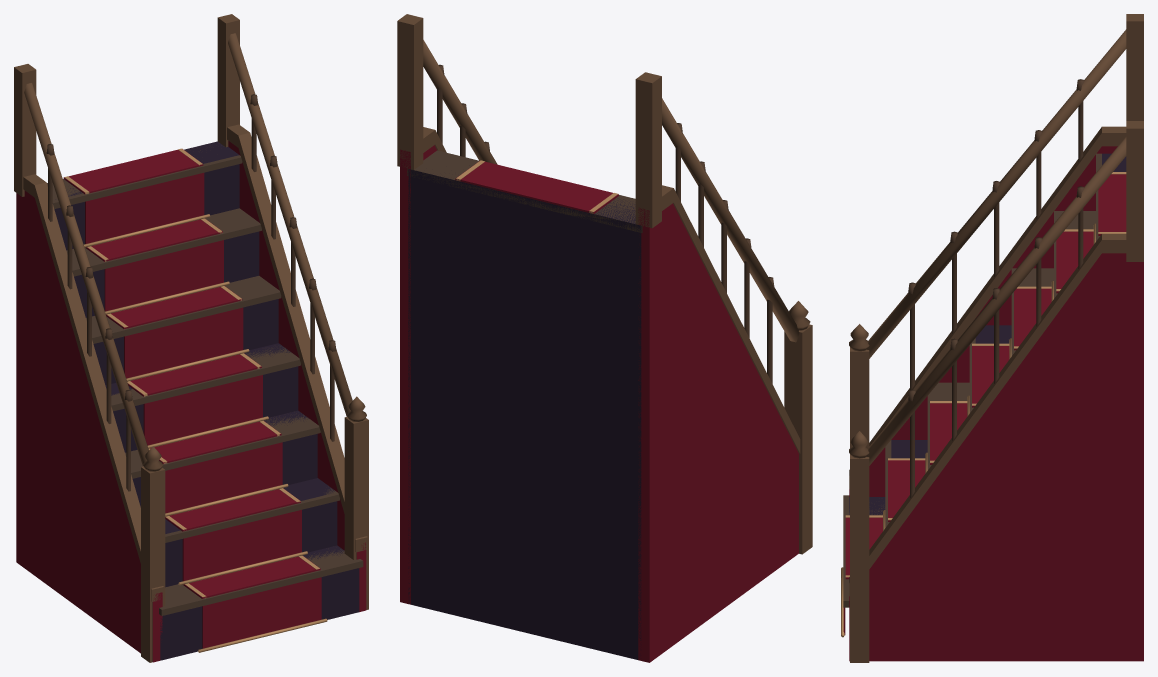
Rendered from stairs_up.glb.
3 renders of one model, left to right at view 1: azimuth 30°, elevation 25°; view 2: azimuth 150°, elevation 25°; view 3: azimuth 270°, elevation 25°, orthographic. The views are drawn at different scales.
Visible parts, largest first — view 1: stairs_up; view 2: stairs_up; view 3: stairs_up.
Boxes of the visible parts, x1,y1,x2,y2 form: stairs_up: (14, 14, 368, 662); stairs_up: (397, 14, 812, 662); stairs_up: (841, 14, 1143, 662).
Bounding box in the file's own units: 0.936 × 2 × 1.03.
